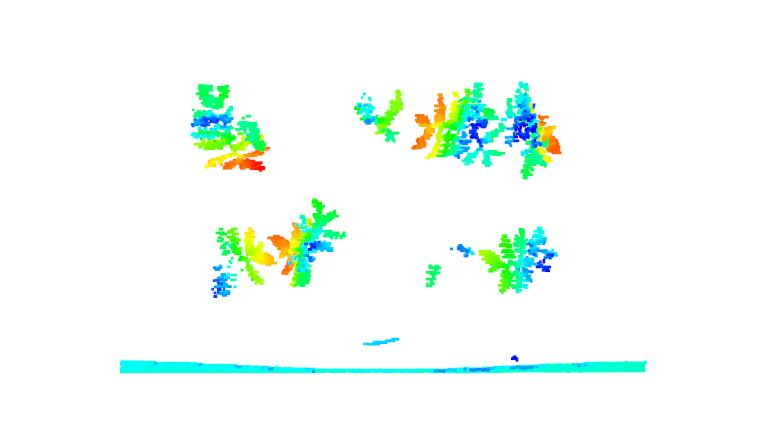chickpea: (411, 78, 507, 169), (188, 82, 270, 173), (272, 198, 350, 293), (502, 79, 563, 182), (205, 225, 278, 304), (476, 225, 557, 296), (352, 88, 406, 144), (423, 244, 475, 289)
